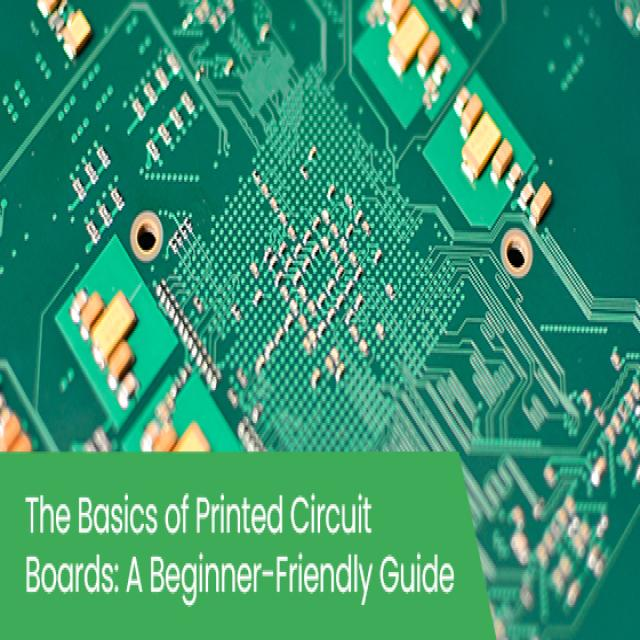pcb: (1, 0, 638, 636), (349, 0, 468, 129)
